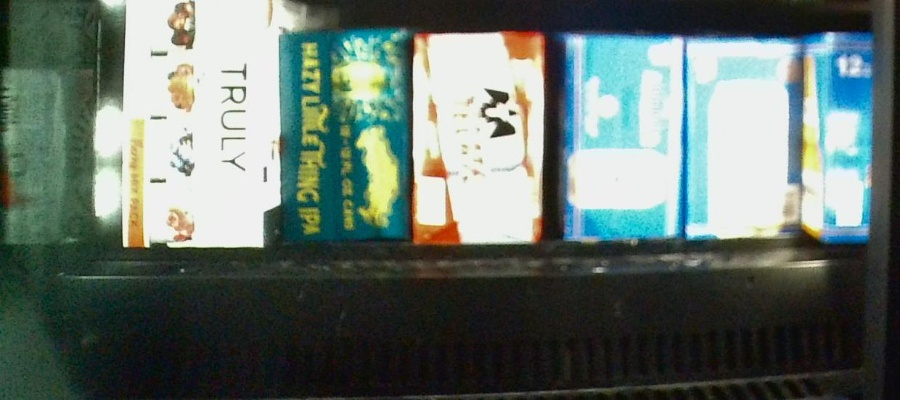bottle: (125, 1, 280, 249), (279, 31, 412, 243), (553, 31, 684, 244), (415, 31, 544, 246), (684, 29, 806, 239), (809, 32, 866, 243)
